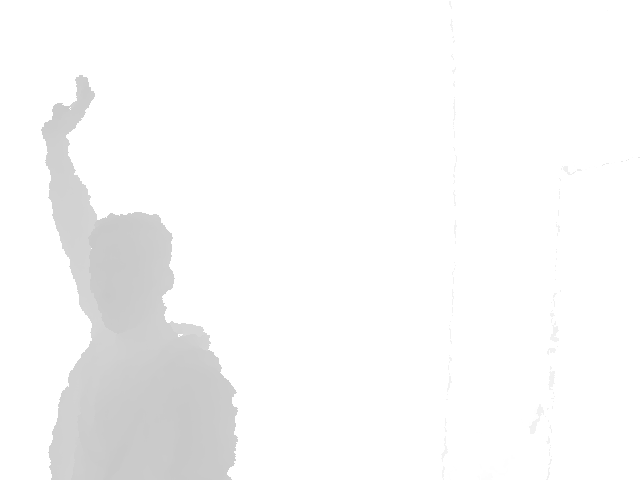hand: (40, 74, 96, 138)
head: (87, 211, 177, 333)
person: (40, 74, 240, 480)
